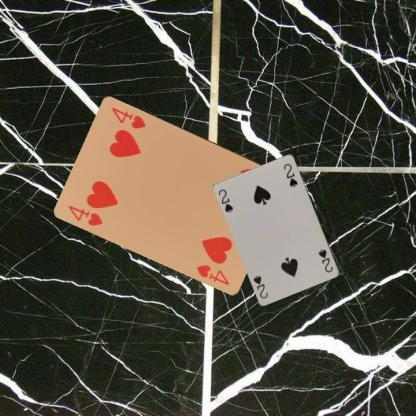2s: (216, 186, 235, 214), (316, 247, 334, 274)
4h: (66, 202, 104, 227)
